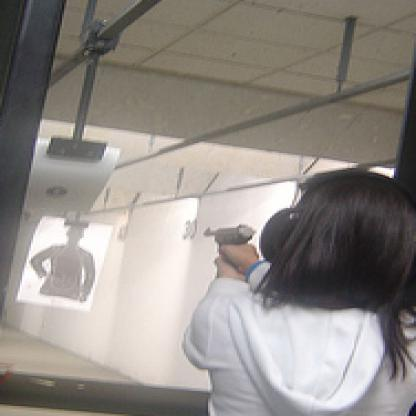gun: (199, 215, 261, 261)
